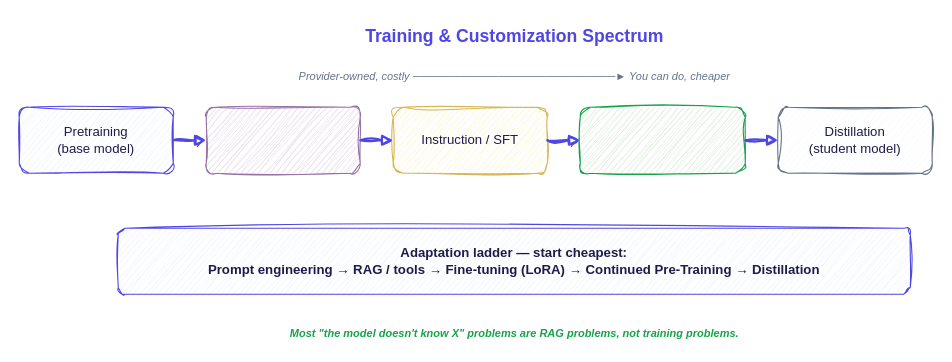
This 952x362 diagram has some shape labels left out. Each missing label, with the centre of its shape:
Alignment (RLHF / DPO): the point at 662,139
Continued Pre-Training: the point at 282,139
